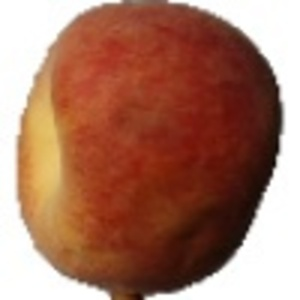pêssego: (13, 1, 284, 300)
